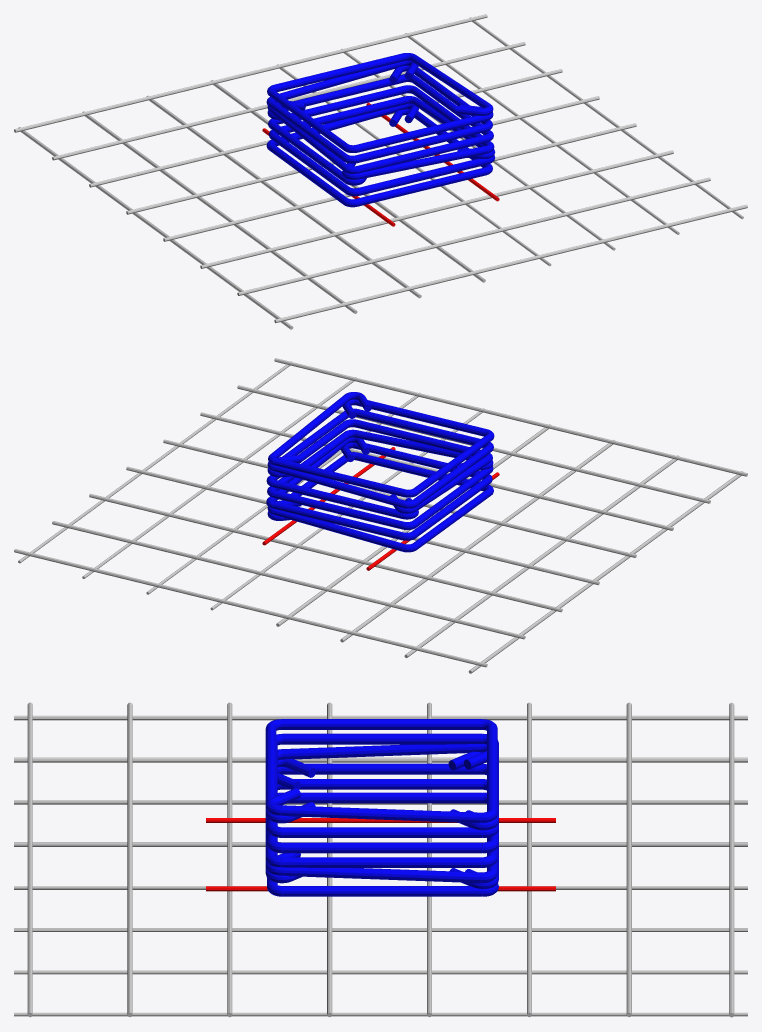
File: 02フープ筋.obj
3 renders of one model, top to bottom at view 1: azimuth 30°, elevation 25°; view 2: azimuth 150°, elevation 25°; view 3: azimuth 270°, elevation 25°, orthographic. The views are drawn at different scales.
Visible parts, largest first — view 1: 1360.012_01.014, _3-3__curve_.005__3-3__curve_.006, _3-3__curve_.004__3-3__curve_.005, _3-3__curve_.002__3-3__curve_.003, _3-3__curve_.003__3-3__curve_.004, _3-3__curve_.001__3-3__curve_.002, _3-3__curve___3-3__curve_.001; view 2: 1360.012_01.014, _3-3__curve_.005__3-3__curve_.006, _3-3__curve_.004__3-3__curve_.005, _3-3__curve_.003__3-3__curve_.004, _3-3__curve_.002__3-3__curve_.003, _3-3__curve_.001__3-3__curve_.002, _3-3__curve___3-3__curve_.001; view 3: 1360.012_01.014, _3-3__curve_.005__3-3__curve_.006, _3-3__curve_.003__3-3__curve_.004, _3-3__curve_.004__3-3__curve_.005, _3-3__curve_.002__3-3__curve_.003, _3-3__curve___3-3__curve_.001, _3-3__curve_.001__3-3__curve_.002, 1800.001, 1800.
Boxes of the visible parts, x1,y1,x2,y2 form: 1360.012_01.014: (14, 14, 747, 329); _3-3__curve_.005__3-3__curve_.006: (267, 53, 493, 152); _3-3__curve_.004__3-3__curve_.005: (266, 60, 492, 163); _3-3__curve_.002__3-3__curve_.003: (268, 85, 494, 185); _3-3__curve_.003__3-3__curve_.004: (267, 74, 493, 173); _3-3__curve_.001__3-3__curve_.002: (268, 96, 495, 196); _3-3__curve___3-3__curve_.001: (266, 103, 492, 207); 1360.012_01.014: (14, 358, 747, 673); _3-3__curve_.005__3-3__curve_.006: (268, 392, 494, 497); _3-3__curve_.004__3-3__curve_.005: (267, 408, 493, 508); _3-3__curve_.003__3-3__curve_.004: (266, 419, 492, 519); _3-3__curve_.002__3-3__curve_.003: (267, 429, 493, 529); _3-3__curve_.001__3-3__curve_.002: (266, 437, 492, 540); _3-3__curve___3-3__curve_.001: (267, 452, 493, 552); 1360.012_01.014: (14, 702, 747, 1017); _3-3__curve_.005__3-3__curve_.006: (265, 719, 497, 823); _3-3__curve_.003__3-3__curve_.004: (267, 744, 498, 853); _3-3__curve_.004__3-3__curve_.005: (267, 733, 498, 837); _3-3__curve_.002__3-3__curve_.003: (265, 758, 497, 867); _3-3__curve___3-3__curve_.001: (267, 792, 498, 896); _3-3__curve_.001__3-3__curve_.002: (265, 779, 497, 883); 1800.001: (206, 818, 555, 822); 1800: (206, 886, 555, 891).
Size of what is drawn, in the model's own units: 1360 by 223 by 1360.
